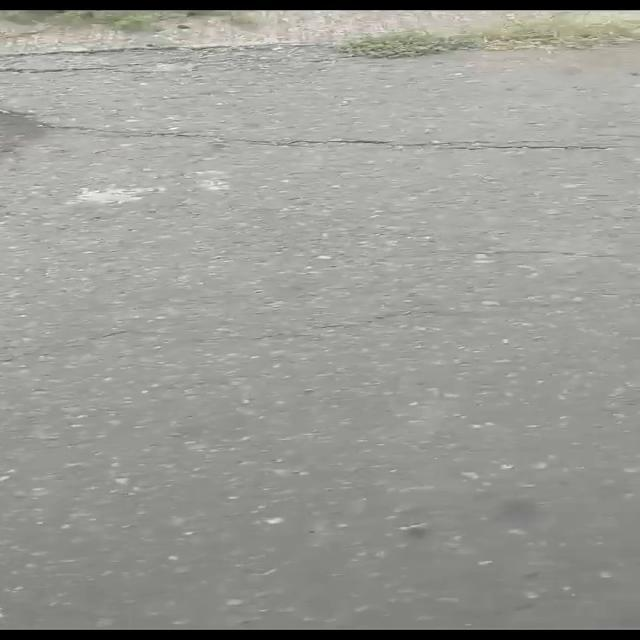Melintang: (0, 102, 640, 168)
